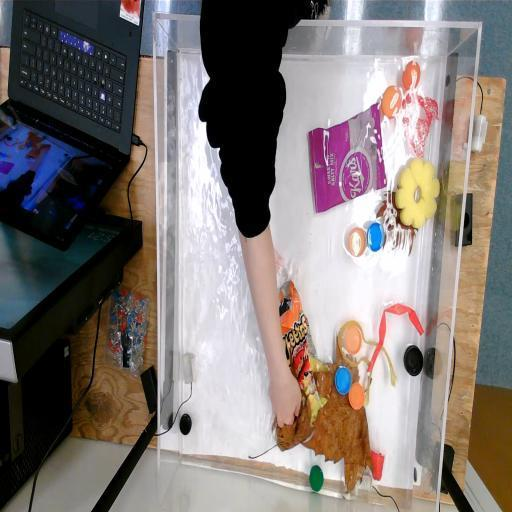Bottle Cap: (381, 84, 402, 118), (402, 344, 424, 376), (344, 325, 363, 357), (402, 60, 421, 92), (334, 364, 352, 396), (348, 380, 366, 410), (348, 227, 366, 257), (367, 221, 384, 251), (309, 464, 324, 494), (179, 412, 193, 437)
Cone Cap: (370, 450, 386, 482)
Leaf: (299, 330, 374, 494), (247, 367, 335, 462), (375, 186, 419, 258)
Netting: (399, 90, 440, 160), (270, 244, 286, 279)
Plastic Bag: (308, 98, 388, 214), (278, 280, 330, 428)
Plastic Strand: (337, 320, 399, 389), (367, 300, 423, 373)
Sponge: (394, 155, 441, 229)
